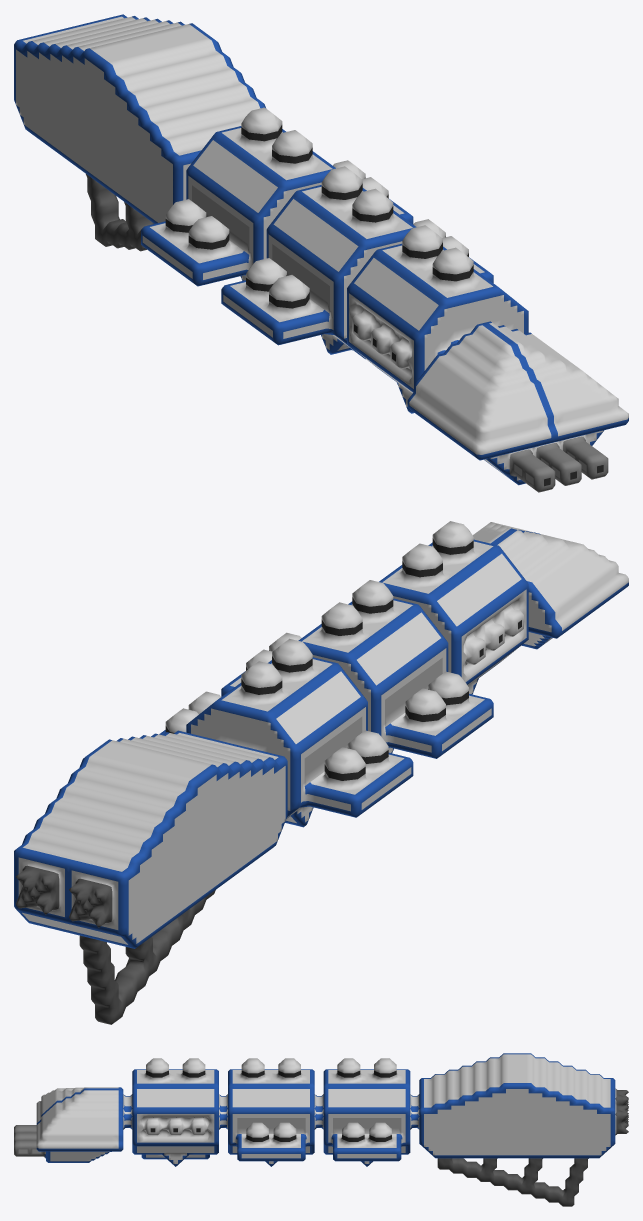
The model's file is diadochi-4-kakia-class.obj.
3 views of the same model, one above another, from view 1: azimuth 30°, elevation 25°; view 2: azimuth 150°, elevation 25°; view 3: azimuth 270°, elevation 25° (orthographic). The views are drawn at different scales.
Size of the model in its own units: 33 by 35 by 135.
Materials: 1 (1 with a texture image).
